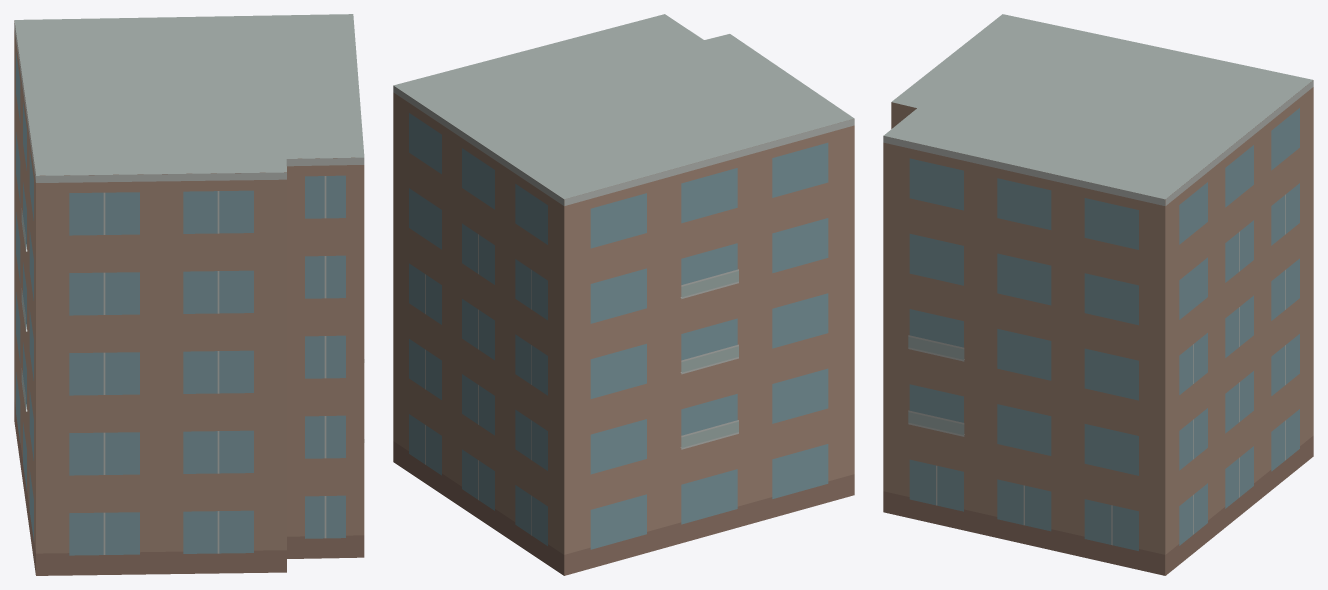
The model's file is survey-upis-32667836.glb.
3 renders of one model, left to right at view 1: azimuth 30°, elevation 25°; view 2: azimuth 150°, elevation 25°; view 3: azimuth 270°, elevation 25°, orthographic. The views are drawn at different scales.
Parts seen in each view (by area): view 1: survey-upis-32667836.tmp; view 2: survey-upis-32667836.tmp; view 3: survey-upis-32667836.tmp.
Part boxes in pixels (bbox=[...]): survey-upis-32667836.tmp: bbox=[14, 14, 364, 575]; survey-upis-32667836.tmp: bbox=[393, 14, 854, 575]; survey-upis-32667836.tmp: bbox=[883, 14, 1313, 575].
Size of the model in its own units: 14.14 by 13.38 by 13.86.
